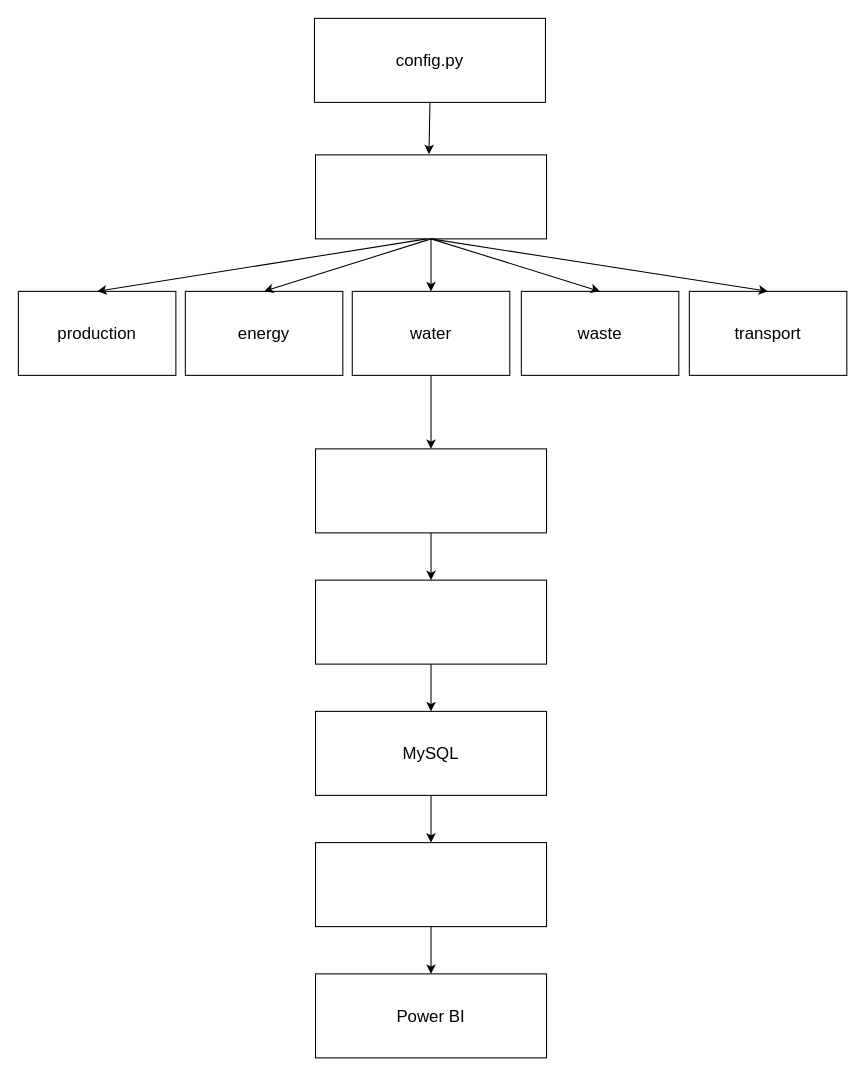
This 865x1076 diagram has some shape labels left out. Here are the shapes that lost their labels. From the top down, the box of each, then its label:
(314, 154, 547, 239): utils.py
(314, 448, 547, 533): CSV (data/raw)
(314, 579, 547, 664): ETL
(314, 842, 547, 927): dbt
